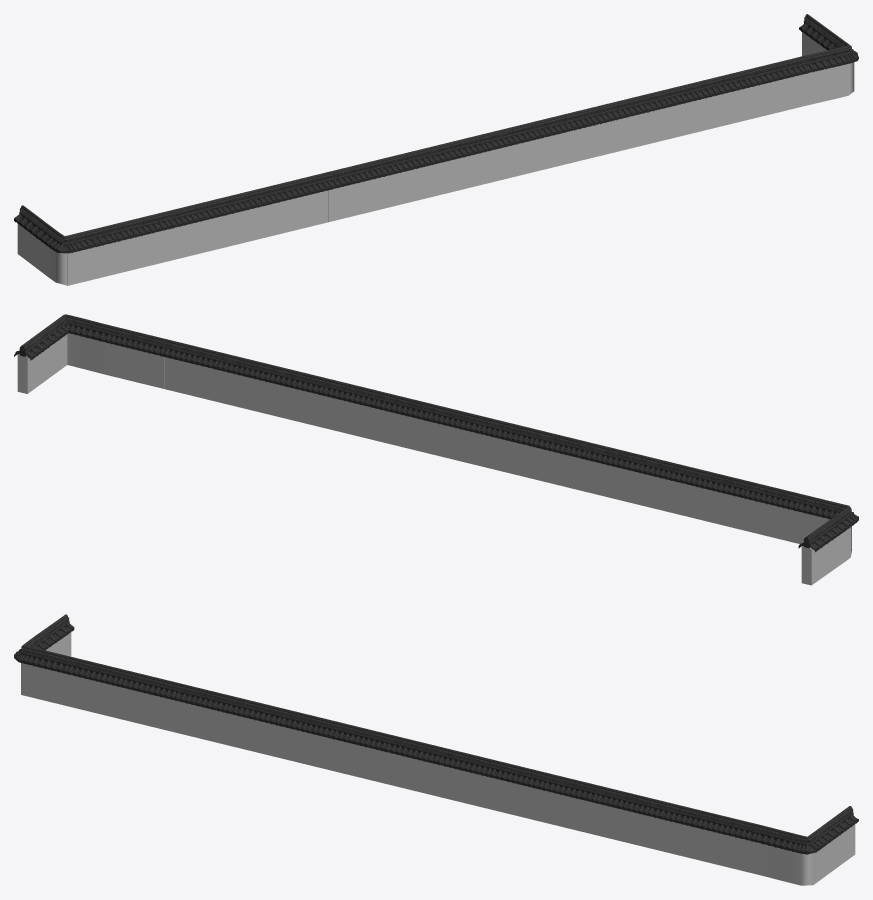
Rendered from SM_HBJ_HG_StoneWallH_Splines_24.fbx.
3 views of the same model, one above another, from view 1: azimuth 30°, elevation 25°; view 2: azimuth 150°, elevation 25°; view 3: azimuth 330°, elevation 25° (orthographic).
Parts seen in each view (by area): view 1: SM_HBJ_HG_StoneWallH_Splines_24; view 2: SM_HBJ_HG_StoneWallH_Splines_24; view 3: SM_HBJ_HG_StoneWallH_Splines_24.
Boxes of the visible parts, <box> form: SM_HBJ_HG_StoneWallH_Splines_24: <box>14,14,858,285</box>; SM_HBJ_HG_StoneWallH_Splines_24: <box>14,314,858,585</box>; SM_HBJ_HG_StoneWallH_Splines_24: <box>14,614,858,885</box>.
Bounding box in the file's own units: 3155 × 326 × 178.
